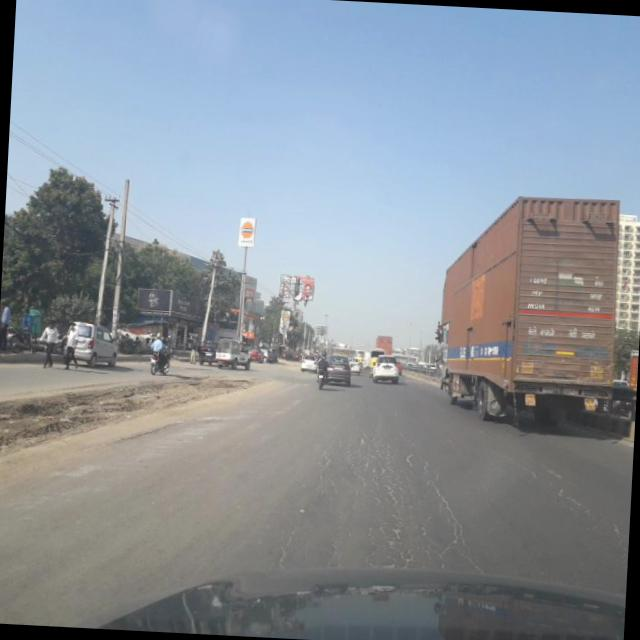crack: (268, 403, 494, 572), (512, 446, 626, 538)
